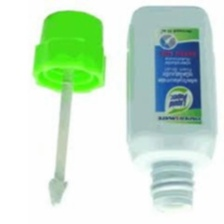correction_fluid: (125, 4, 219, 216)
